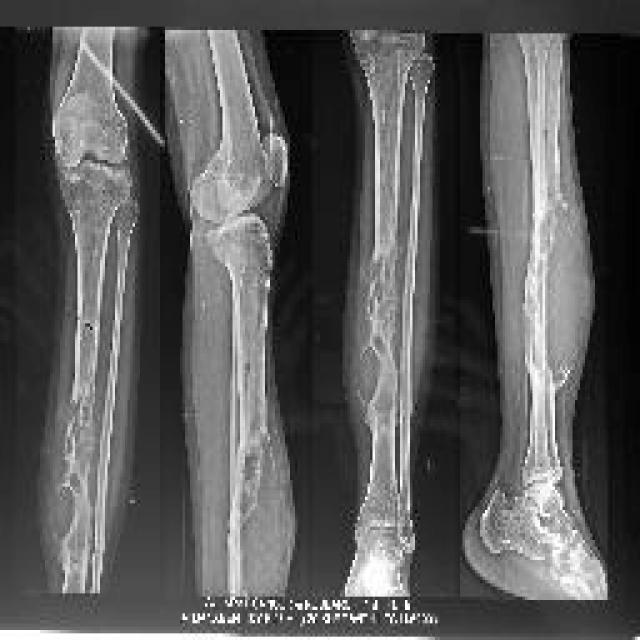bone-cancer: (356, 252, 419, 428), (230, 430, 292, 607), (525, 205, 585, 387), (52, 372, 105, 572)
